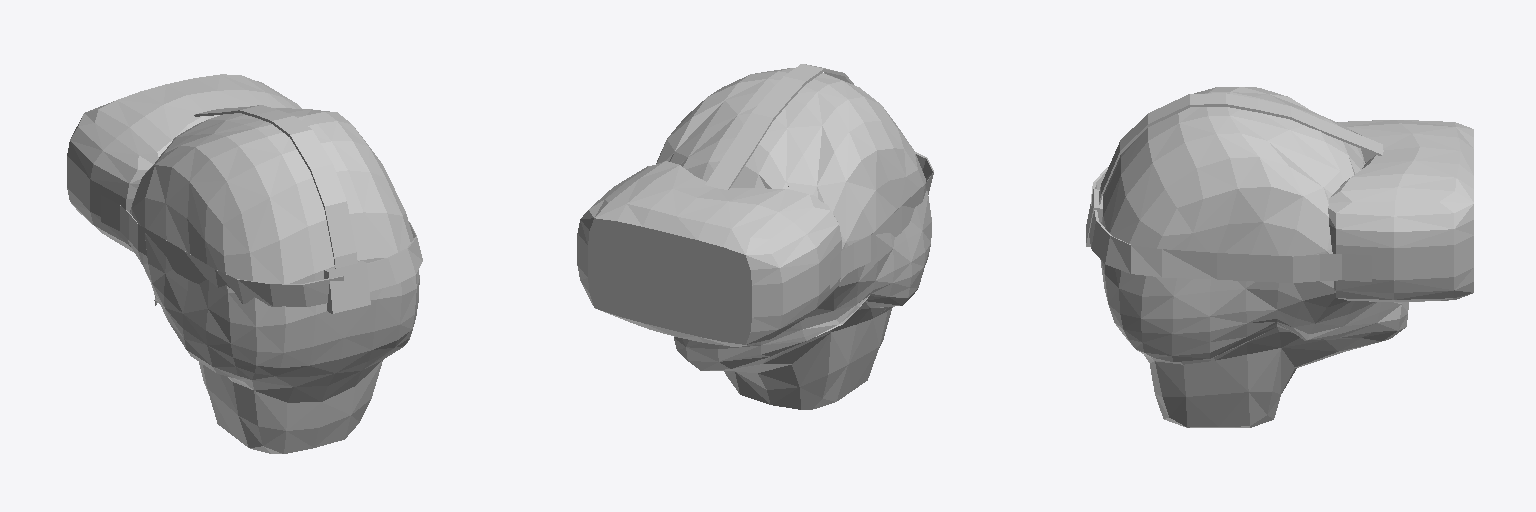
File: player.obj
3 renders of one model, left to right at view 1: azimuth 30°, elevation 25°; view 2: azimuth 150°, elevation 25°; view 3: azimuth 270°, elevation 25°, orthographic.
Parts seen in each view (by area): view 1: Cube_Cube.001, Cube.001_Cube.002, Plane.001, Plane, Cube.002_Cube.003, Plane.002; view 2: Cube_Cube.001, Cube.001_Cube.002, Plane, Plane.001; view 3: Cube_Cube.001, Cube.001_Cube.002, Plane.002, Plane.
Boxes of the visible parts, <box> form: Cube_Cube.001: <box>130,108,419,453</box>; Cube.001_Cube.002: <box>67,74,301,251</box>; Plane.001: <box>101,195,343,306</box>; Plane: <box>194,105,357,268</box>; Cube.002_Cube.003: <box>324,261,370,313</box>; Plane.002: <box>367,222,422,291</box>; Cube_Cube.001: <box>656,68,931,409</box>; Cube.001_Cube.002: <box>577,161,841,346</box>; Plane: <box>705,64,853,189</box>; Plane.001: <box>830,152,933,288</box>; Cube_Cube.001: <box>1100,87,1408,427</box>; Cube.001_Cube.002: <box>1328,120,1473,302</box>; Plane.002: <box>1089,210,1371,282</box>; Plane: <box>1099,93,1383,204</box>.
Size of the model in its own units: 1.39 by 1.89 by 2.12.